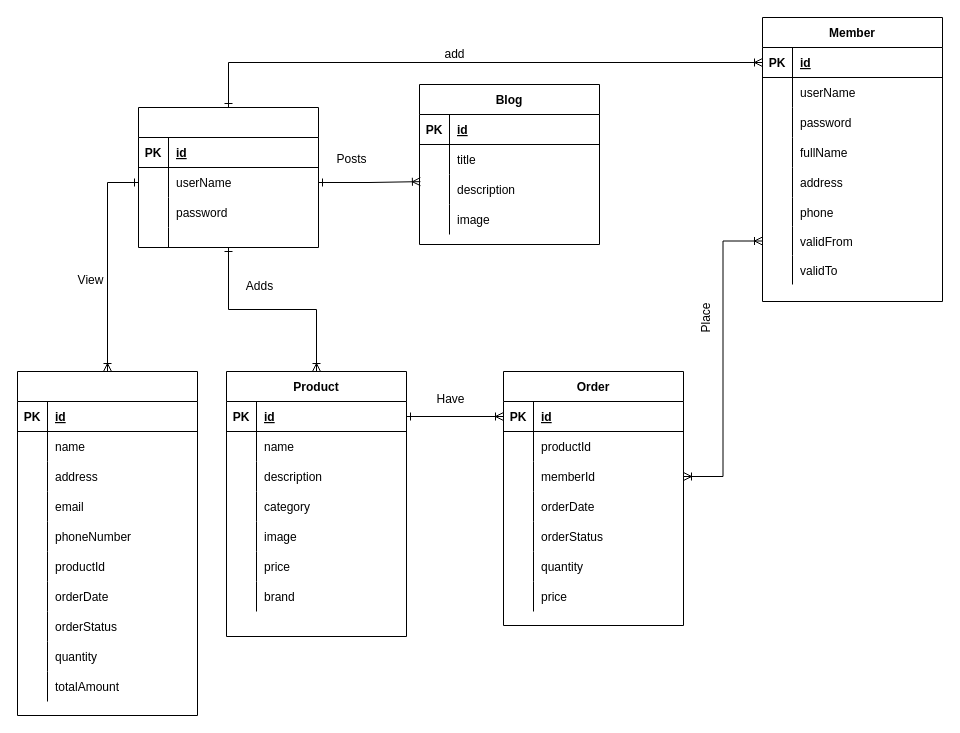
Some shapes in this 960 by 733 pixel diagram are drawn without their labels. The box of each missing label's shape, as (x1, y1, x2, y2) in pixels:
Admin: (138, 106, 318, 248)
CustomerOrder: (16, 370, 198, 716)
